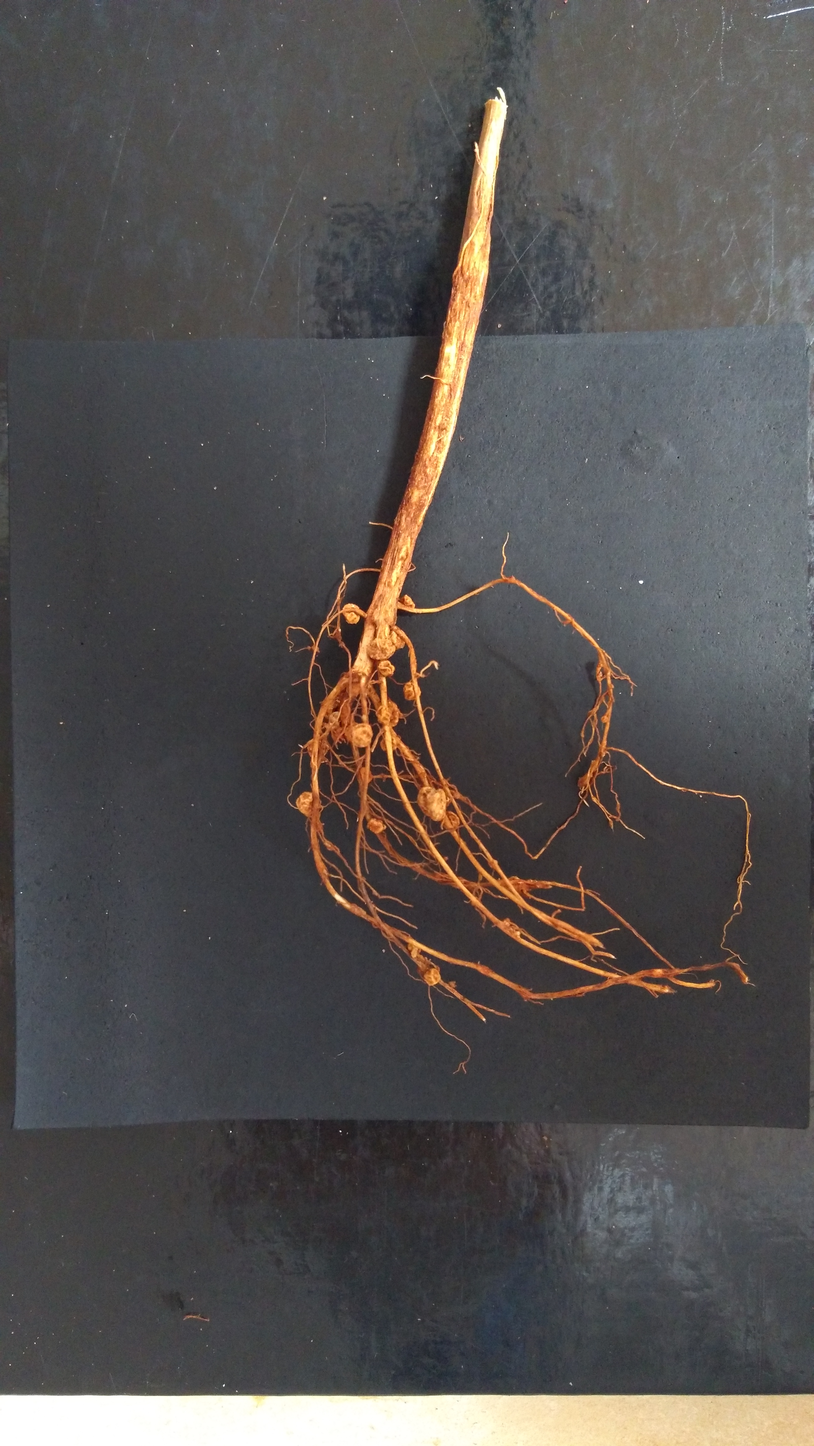nodule: (415, 785, 448, 824), (366, 637, 398, 662), (347, 721, 374, 749), (305, 737, 331, 763), (295, 790, 318, 819), (341, 602, 362, 625), (401, 680, 422, 702), (386, 699, 401, 729), (396, 593, 417, 613), (354, 766, 374, 786), (378, 735, 399, 754), (388, 630, 406, 652), (365, 817, 387, 835), (376, 659, 396, 678), (421, 967, 441, 986), (375, 704, 391, 727), (445, 809, 461, 830), (405, 941, 422, 959), (327, 710, 342, 728), (486, 858, 499, 869), (600, 715, 609, 723)
